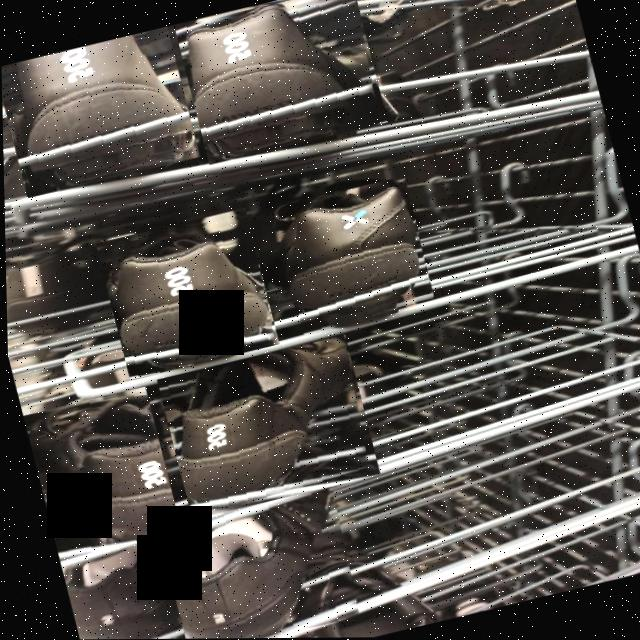shoe: (154, 334, 379, 520), (173, 0, 387, 165), (0, 26, 199, 198), (154, 486, 362, 639), (93, 207, 278, 379), (261, 175, 436, 338), (20, 386, 179, 560)
